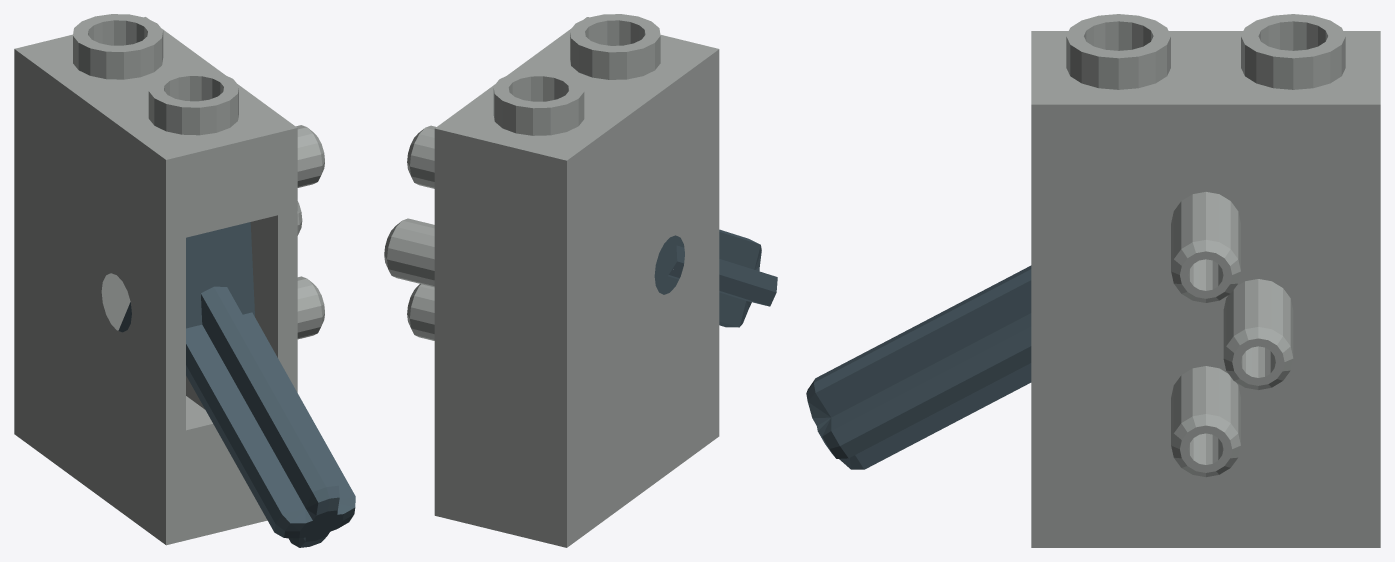
3 views of the same model, side by side, from view 1: azimuth 30°, elevation 25°; view 2: azimuth 150°, elevation 25°; view 3: azimuth 270°, elevation 25° (orthographic). The views are drawn at different scales.
Visible parts, largest first — view 1: world; view 2: world; view 3: world.
Boxes of the visible parts, <box> form: world: <box>14,14,355,547</box>; world: <box>384,14,777,547</box>; world: <box>806,14,1380,547</box>.
Bounding box in the file's own units: 0.0136 × 0.024 × 0.0263.
